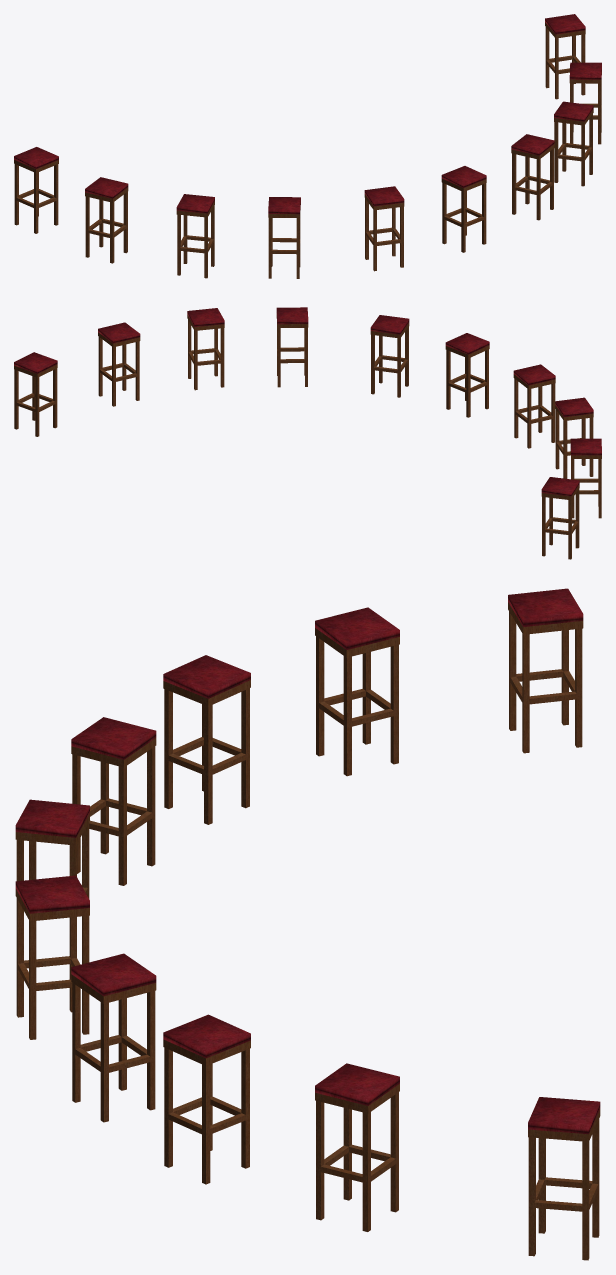
The model's file is bar_chairs_grp.fbx.
The picture shows the model from 3 angles, top to bottom: view 1: azimuth 30°, elevation 25°; view 2: azimuth 150°, elevation 25°; view 3: azimuth 270°, elevation 25°; orthographic projection. The views are drawn at different scales.
Visible parts, largest first — view 1: chairBar_grp_07, chairBar_grp_011, chairBar_grp_010, chairBar_grp_08, chairBar_grp_012, chairBar_grp_06, chairBar_grp_01, chairBar_grp_09, chairBar_grp_05, chairBar_grp_013; view 2: chairBar_grp_05, chairBar_grp_013, chairBar_grp_09, chairBar_grp_01, chairBar_grp_08, chairBar_grp_012, chairBar_grp_010, chairBar_grp_06, chairBar_grp_011, chairBar_grp_07; view 3: chairBar_grp_011, chairBar_grp_013, chairBar_grp_07, chairBar_grp_06, chairBar_grp_012, chairBar_grp_05, chairBar_grp_08, chairBar_grp_09, chairBar_grp_010, chairBar_grp_01.
Boxes of the visible parts, x1=… form: chairBar_grp_07: x1=85, y1=177, x2=128, y2=263; chairBar_grp_011: x1=511, y1=134, x2=554, y2=220; chairBar_grp_010: x1=441, y1=166, x2=486, y2=252; chairBar_grp_08: x1=14, y1=147, x2=58, y2=233; chairBar_grp_012: x1=554, y1=101, x2=593, y2=186; chairBar_grp_06: x1=176, y1=194, x2=214, y2=278; chairBar_grp_01: x1=364, y1=186, x2=404, y2=271; chairBar_grp_09: x1=545, y1=14, x2=585, y2=99; chairBar_grp_05: x1=268, y1=197, x2=300, y2=278; chairBar_grp_013: x1=569, y1=62, x2=601, y2=144; chairBar_grp_05: x1=513, y1=364, x2=555, y2=448; chairBar_grp_013: x1=98, y1=322, x2=140, y2=406; chairBar_grp_09: x1=14, y1=352, x2=57, y2=436; chairBar_grp_01: x1=445, y1=333, x2=489, y2=417; chairBar_grp_08: x1=541, y1=477, x2=579, y2=559; chairBar_grp_012: x1=187, y1=308, x2=224, y2=390; chairBar_grp_010: x1=370, y1=315, x2=409, y2=397; chairBar_grp_06: x1=555, y1=397, x2=593, y2=478; chairBar_grp_011: x1=276, y1=307, x2=308, y2=387; chairBar_grp_07: x1=570, y1=438, x2=601, y2=518; chairBar_grp_011: x1=71, y1=953, x2=156, y2=1122; chairBar_grp_013: x1=315, y1=1063, x2=399, y2=1231; chairBar_grp_07: x1=315, y1=607, x2=399, y2=776; chairBar_grp_06: x1=163, y1=655, x2=250, y2=824; chairBar_grp_012: x1=163, y1=1014, x2=250, y2=1184; chairBar_grp_05: x1=71, y1=717, x2=156, y2=885; chairBar_grp_08: x1=508, y1=588, x2=583, y2=753; chairBar_grp_09: x1=528, y1=1097, x2=600, y2=1260; chairBar_grp_010: x1=15, y1=875, x2=89, y2=1039; chairBar_grp_01: x1=15, y1=799, x2=89, y2=898.
Bounding box in the file's own units: 73.85 × 8.53 × 33.85.
